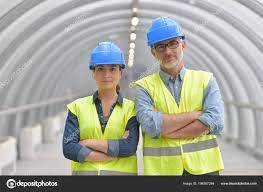Person_wearing_helmet: (144, 12, 186, 52), (83, 38, 126, 73)
